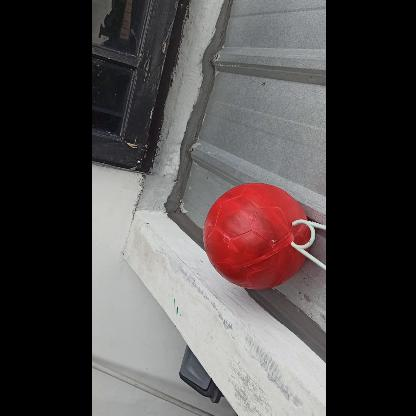red_ball: (202, 182, 309, 288)
